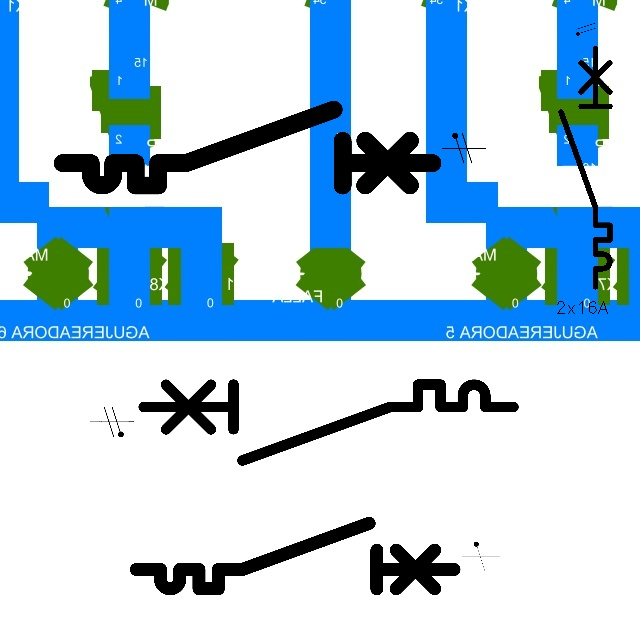interruptor_termomagnetico: (53, 100, 442, 195), (134, 375, 523, 470), (128, 515, 462, 597), (555, 42, 616, 293)
